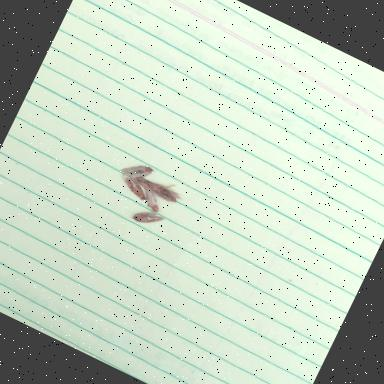pbw: (134, 168, 186, 206), (119, 156, 155, 186), (114, 172, 150, 200), (132, 206, 166, 232), (140, 189, 164, 213)
